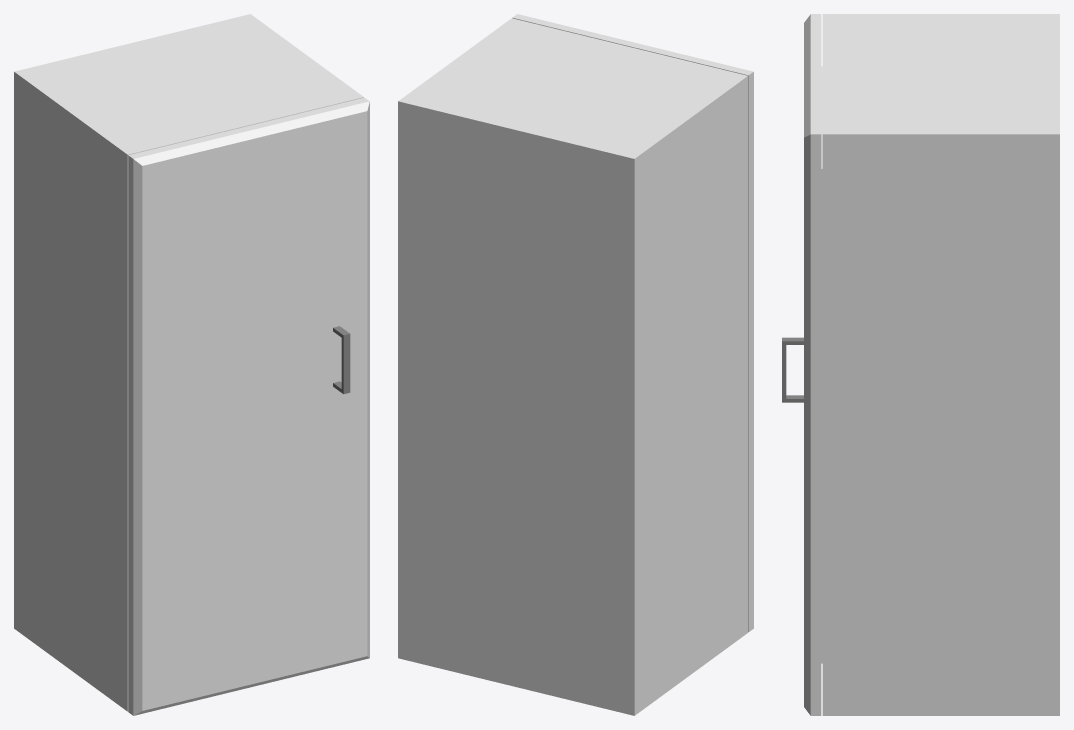
Rendered from fridge.gltf.
The picture shows the model from 3 angles, left to right: view 1: azimuth 30°, elevation 25°; view 2: azimuth 150°, elevation 25°; view 3: azimuth 270°, elevation 25°; orthographic projection. The views are drawn at different scales.
Parts seen in each view (by area): view 1: Cube; view 2: Cube; view 3: Cube.
Part boxes in pixels (left/top/right/bottom): Cube: left=14, top=14, right=369, bottom=715; Cube: left=398, top=14, right=753, bottom=715; Cube: left=782, top=14, right=1059, bottom=715.
Bounding box in the file's own units: 0.799 × 1.8 × 0.7787.
1 material, 1 textured.
